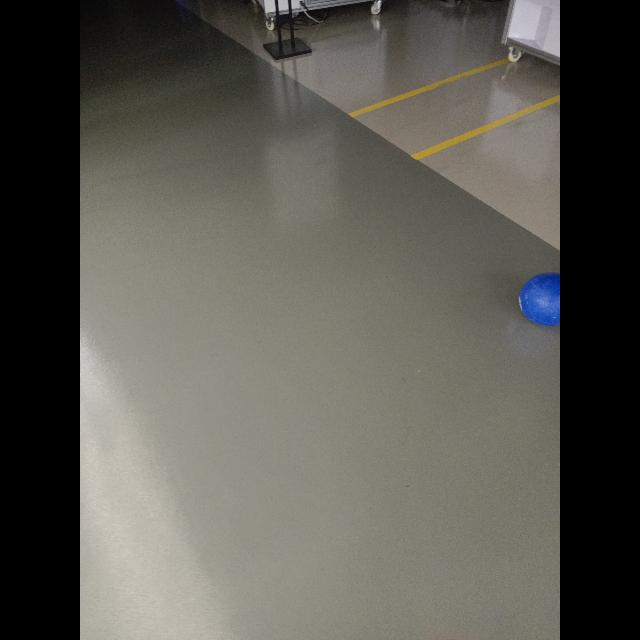B: (520, 271, 560, 327)
